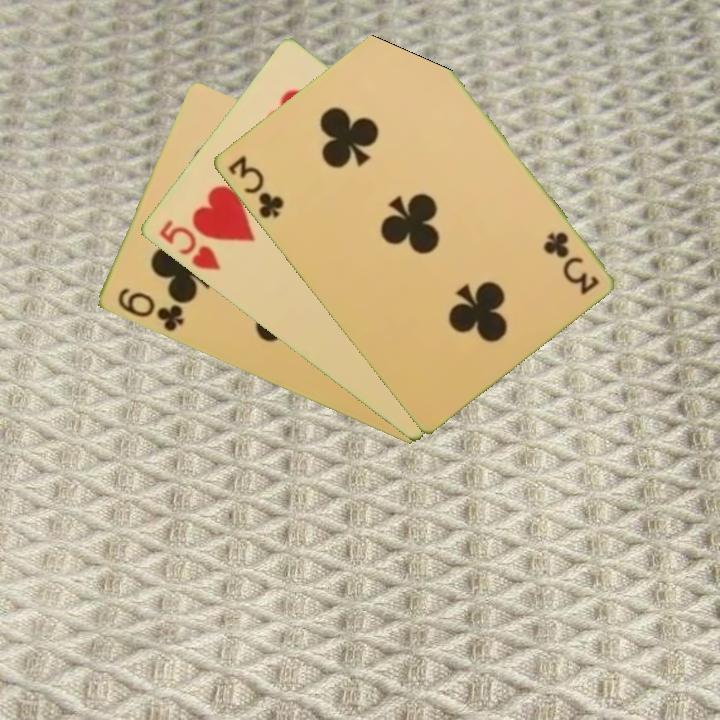3c: (224, 151, 287, 222), (540, 227, 602, 297)
5h: (155, 216, 223, 274)
6c: (113, 284, 186, 335)
